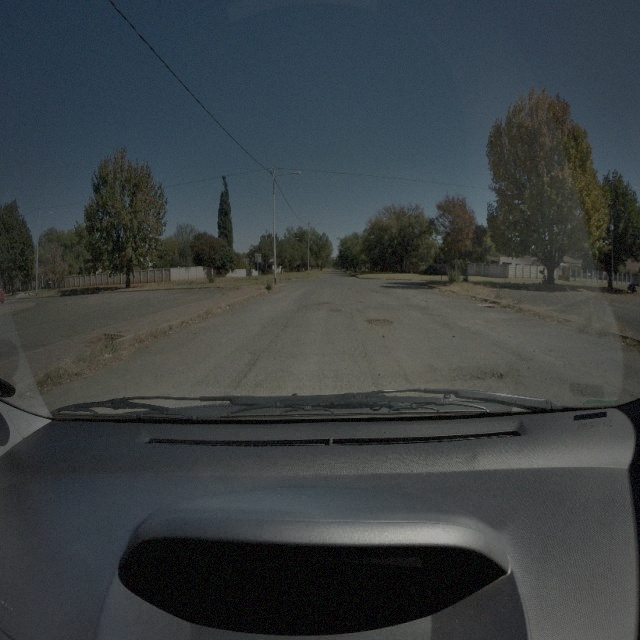pothole: (471, 364, 505, 382), (363, 314, 392, 327)
